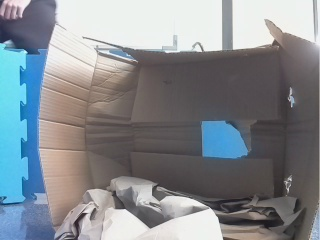caja_rota: (39, 29, 319, 240)
